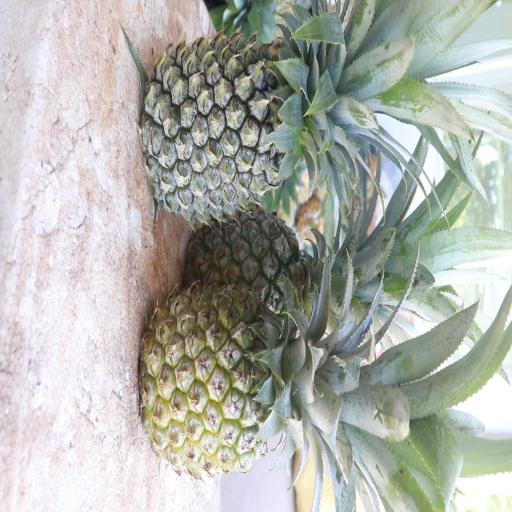------------------------------: (136, 278, 362, 479), (181, 197, 381, 337)
